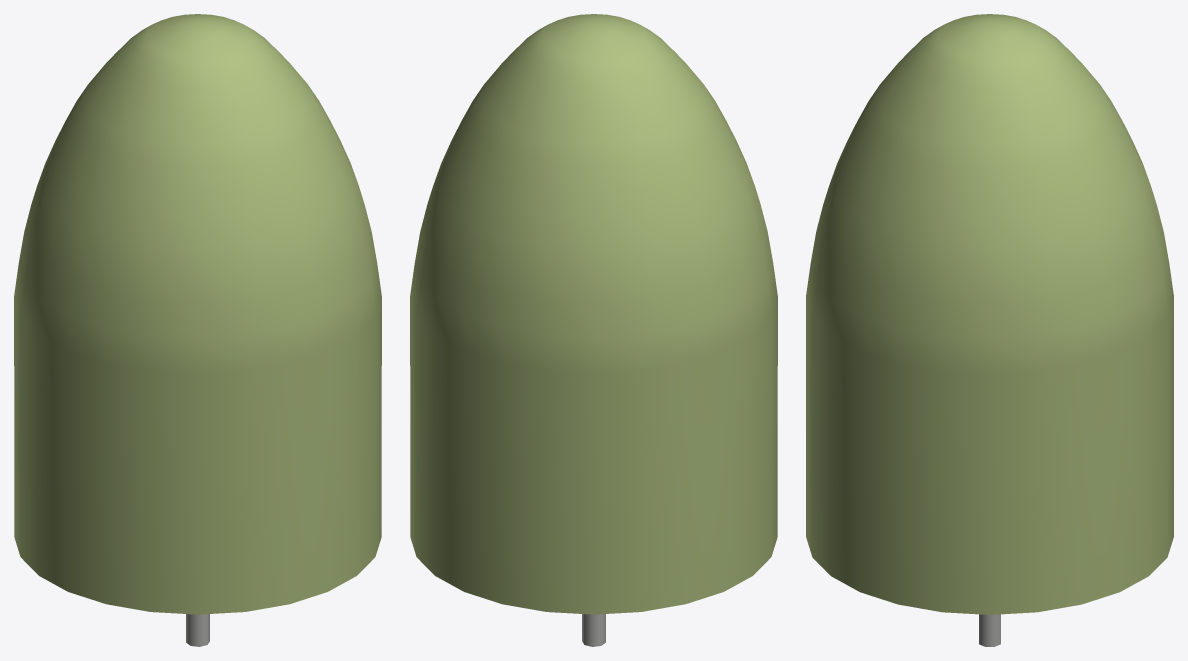
Rendered from LiquidambarStyraciflua.glb.
3 renders of one model, left to right at view 1: azimuth 30°, elevation 25°; view 2: azimuth 150°, elevation 25°; view 3: azimuth 270°, elevation 25°, orthographic.
Parts seen in each view (by area): view 1: Sweetgum__Schematic_LOD3; view 2: Sweetgum__Schematic_LOD3; view 3: Sweetgum__Schematic_LOD3.
Part boxes in pixels (x1,y1,x2,y2): Sweetgum__Schematic_LOD3: (14, 14, 381, 646); Sweetgum__Schematic_LOD3: (410, 14, 777, 646); Sweetgum__Schematic_LOD3: (806, 14, 1173, 646).
Size of the model in its own units: 7.94 by 14.73 by 7.94.
